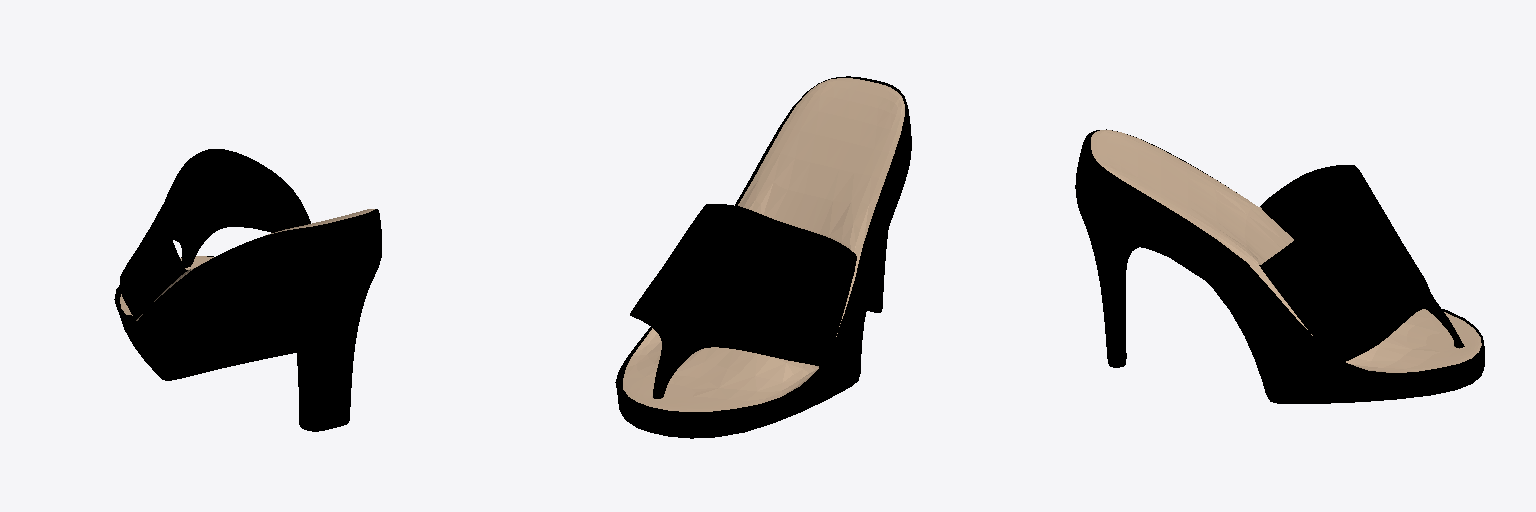
File: Shoe.obj
3 views of the same model, side by side, from view 1: azimuth 30°, elevation 25°; view 2: azimuth 150°, elevation 25°; view 3: azimuth 270°, elevation 25° (orthographic).
Parts seen in each view (by area): view 1: Shoe; view 2: Shoe; view 3: Shoe.
Boxes of the visible parts, x1,y1,x2,y2 form: Shoe: [114, 149, 381, 431]; Shoe: [615, 76, 911, 438]; Shoe: [1075, 129, 1484, 403].
Bounding box in the file's own units: 70.85 × 79.6 × 137.